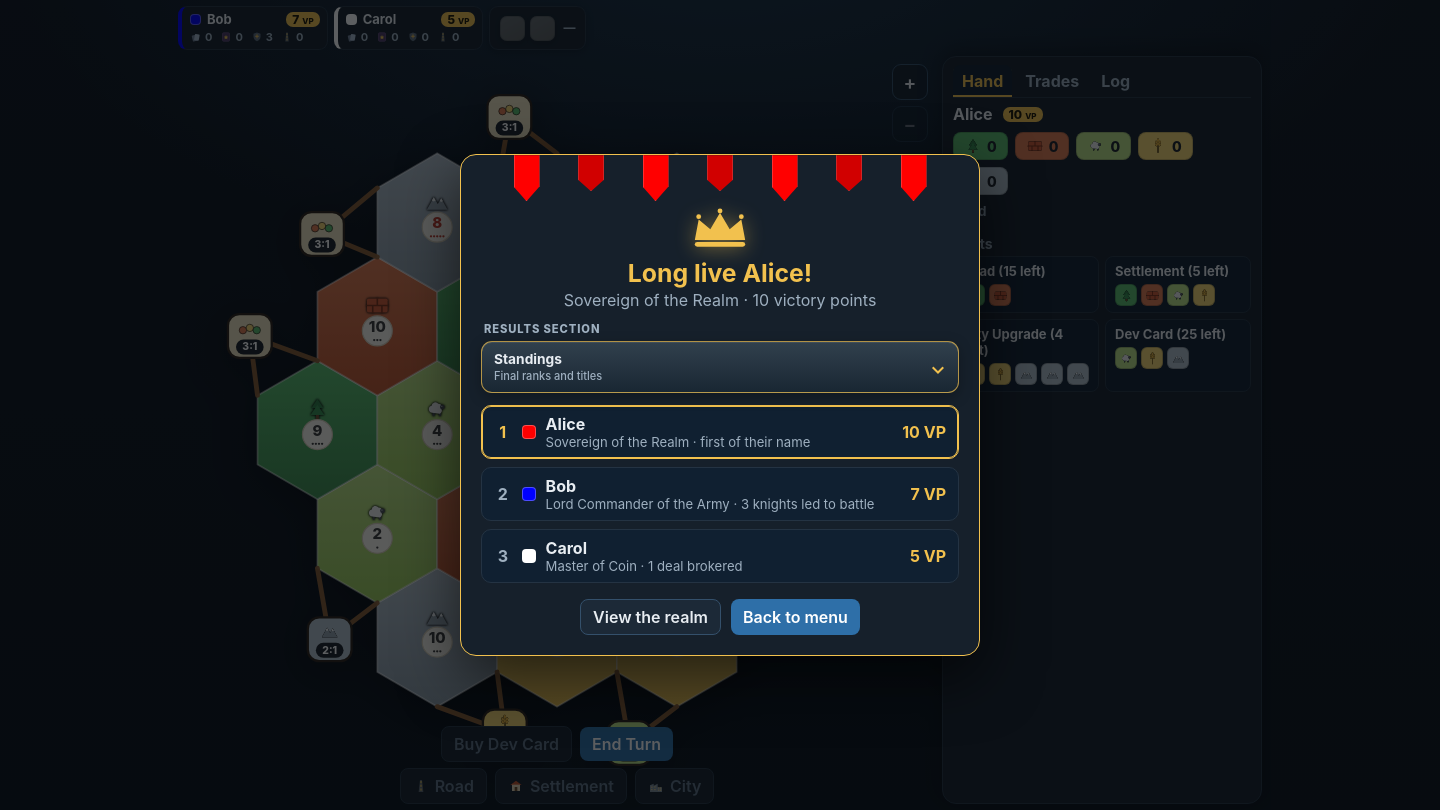
Test: shows per-player robber, discard, and activity totals under Other stats
Click the button with aria-label "results section: standings" at (528, 359), box [481,341,959,393]
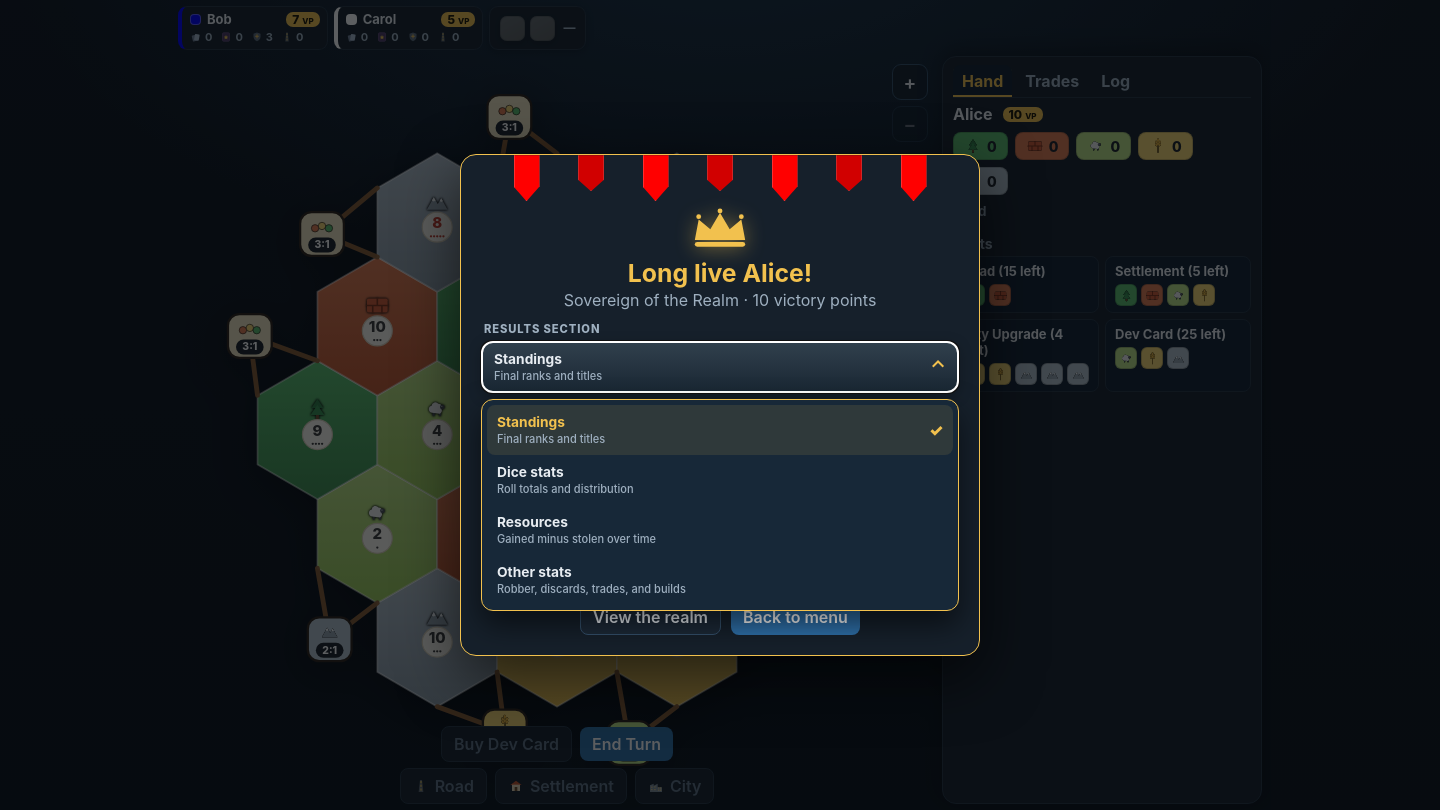
Click the option "Other stats Robber, discards, trades, and builds" at (534, 572), box [487,555,953,605]
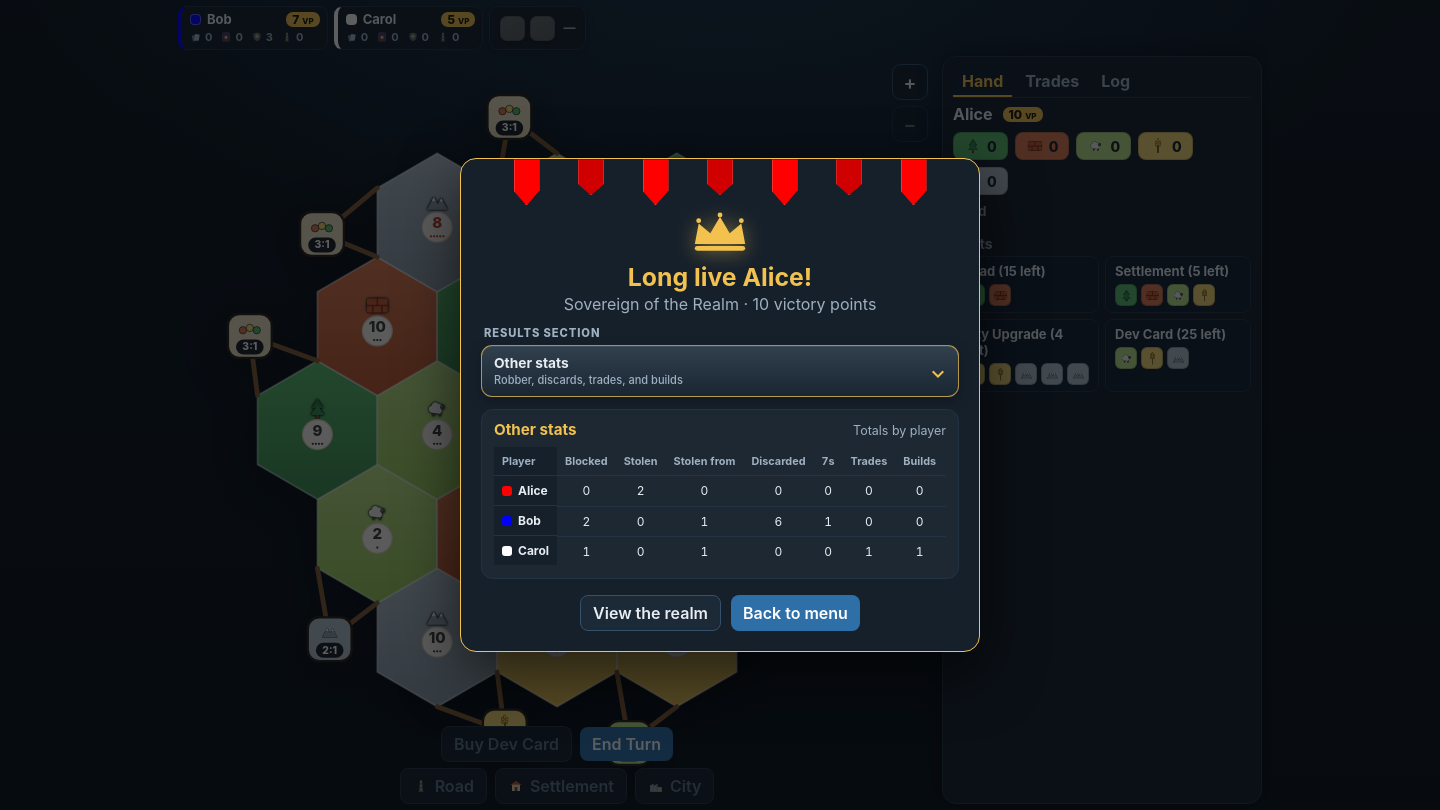
Check: the element "Other stats" shows "Alice", box [518,483,548,498]
Check: the row "Alice 0 2 0 0 0 0 0 0" is shown, box [494,476,946,506]
Check: the row "Bob 2 0 1 6 1 0 0 0" is shown, box [494,506,946,536]
